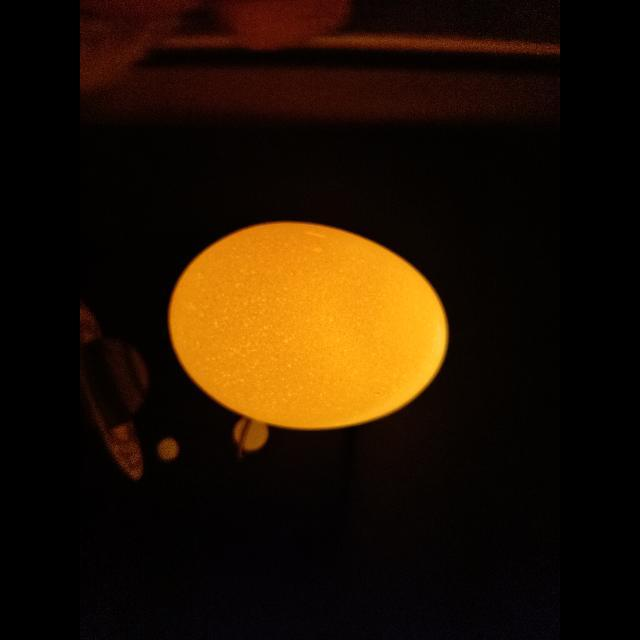AA - Premium: (169, 221, 448, 429)
